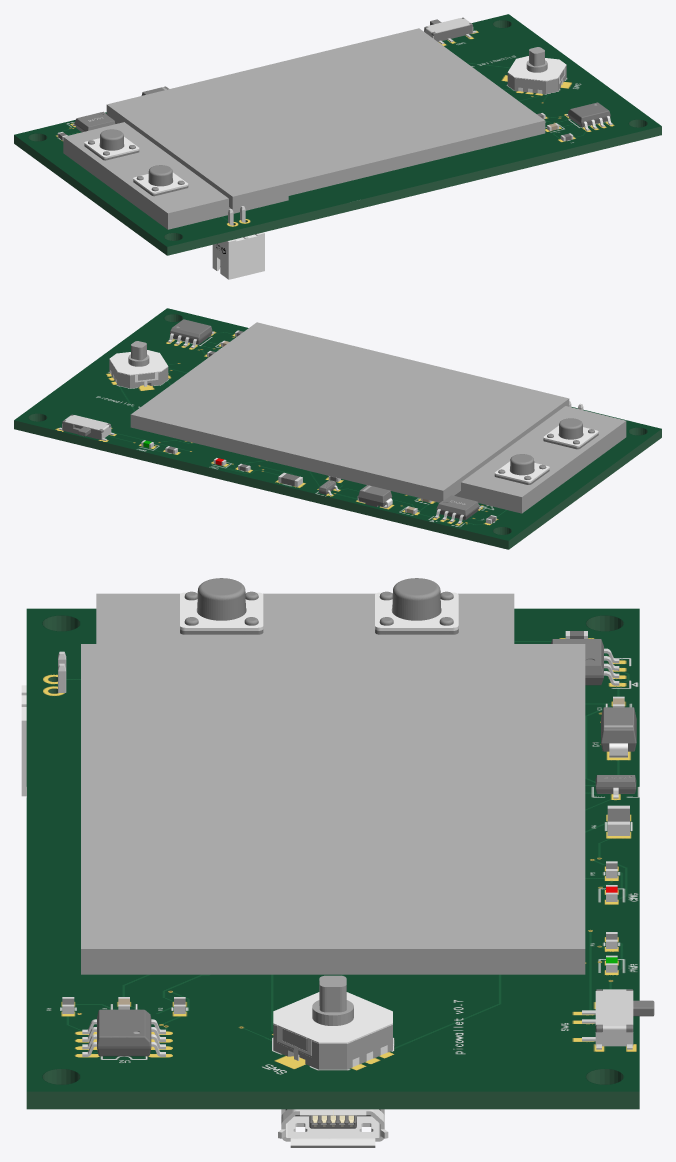
The model's file is board.glb.
3 views of the same model, one above another, from view 1: azimuth 30°, elevation 25°; view 2: azimuth 150°, elevation 25°; view 3: azimuth 270°, elevation 25° (orthographic). The views are drawn at different scales.
Visible parts, largest first — view 1: DISP1, Box0, BT1, J2, SW5, SW2, SW1, SW6, U2, U3; view 2: DISP1, Box0, BT1, SW5, SW1, SW2, SW6, U2, U3, D1; view 3: DISP1, Box0, BT1, SW5, SW1, SW2, U1, U2, SW6, D1, U3, J2.
Boxes of the visible parts, x1=… form: DISP1: x1=106, y1=28, x2=545, y2=209; Box0: x1=14, y1=14, x2=661, y2=255; BT1: x1=63, y1=122, x2=288, y2=229; J2: x1=212, y1=206, x2=264, y2=279; SW5: x1=507, y1=47, x2=566, y2=94; SW2: x1=84, y1=129, x2=139, y2=160; SW1: x1=133, y1=165, x2=188, y2=196; SW6: x1=424, y1=17, x2=476, y2=44; U2: x1=566, y1=102, x2=612, y2=130; U3: x1=72, y1=111, x2=115, y2=132; DISP1: x1=130, y1=322, x2=569, y2=502; Box0: x1=14, y1=308, x2=661, y2=549; BT1: x1=454, y1=406, x2=626, y2=513; SW5: x1=109, y1=341, x2=168, y2=388; SW1: x1=543, y1=418, x2=598, y2=449; SW2: x1=494, y1=454, x2=549, y2=484; SW6: x1=58, y1=414, x2=114, y2=440; U2: x1=168, y1=319, x2=214, y2=348; U3: x1=434, y1=495, x2=481, y2=523; D1: x1=357, y1=485, x2=392, y2=508; DISP1: x1=81, y1=644, x2=585, y2=974; Box0: x1=26, y1=608, x2=639, y2=1109; BT1: x1=96, y1=593, x2=514, y2=643; SW5: x1=273, y1=975, x2=392, y2=1069; SW1: x1=180, y1=578, x2=263, y2=634; SW2: x1=375, y1=578, x2=458, y2=634; U1: x1=278, y1=1109, x2=388, y2=1147; U2: x1=82, y1=1009, x2=165, y2=1056; SW6: x1=582, y1=989, x2=654, y2=1049; D1: x1=601, y1=707, x2=636, y2=757; U3: x1=551, y1=639, x2=619, y2=685; J2: x1=21, y1=651, x2=66, y2=796.
Size of the model in its own units: 82 by 12.4 by 45.4.
30 materials, 2 textured.
